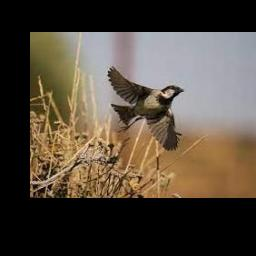Sparrow: (107, 66, 184, 151)
